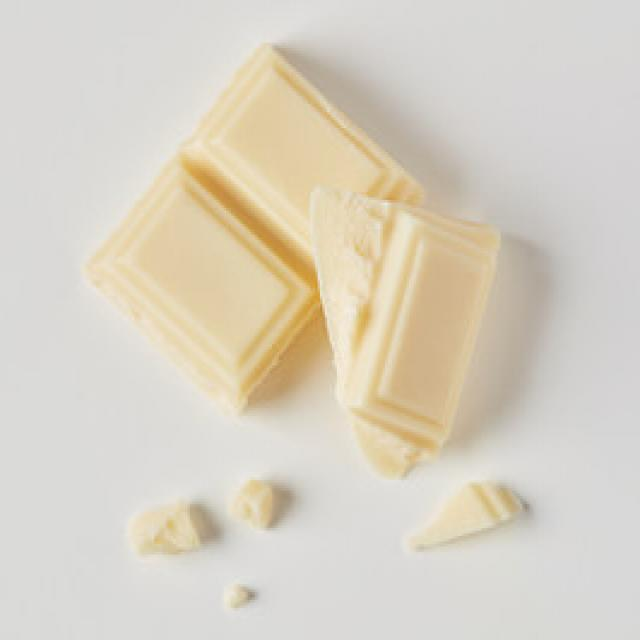chocolate: (89, 44, 429, 425), (302, 179, 499, 478)
